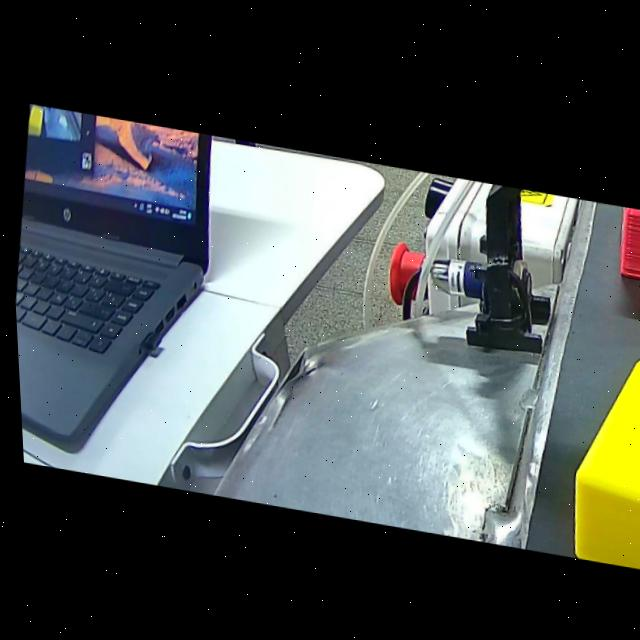redBox: (606, 198, 640, 284)
yellowBox: (550, 331, 640, 563)
